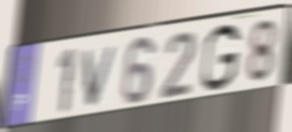1: (56, 44, 78, 117)
2: (159, 29, 200, 102)
6: (120, 34, 157, 108)
8: (245, 17, 279, 86)
G: (199, 22, 242, 94)
V: (81, 42, 121, 110)
